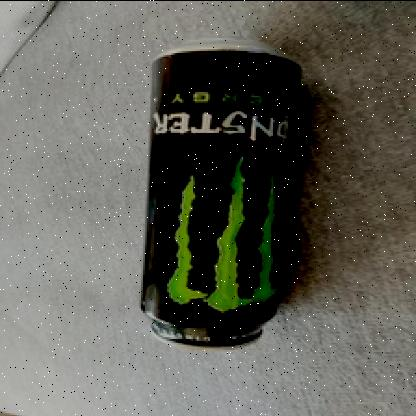Can: (140, 38, 302, 350)
